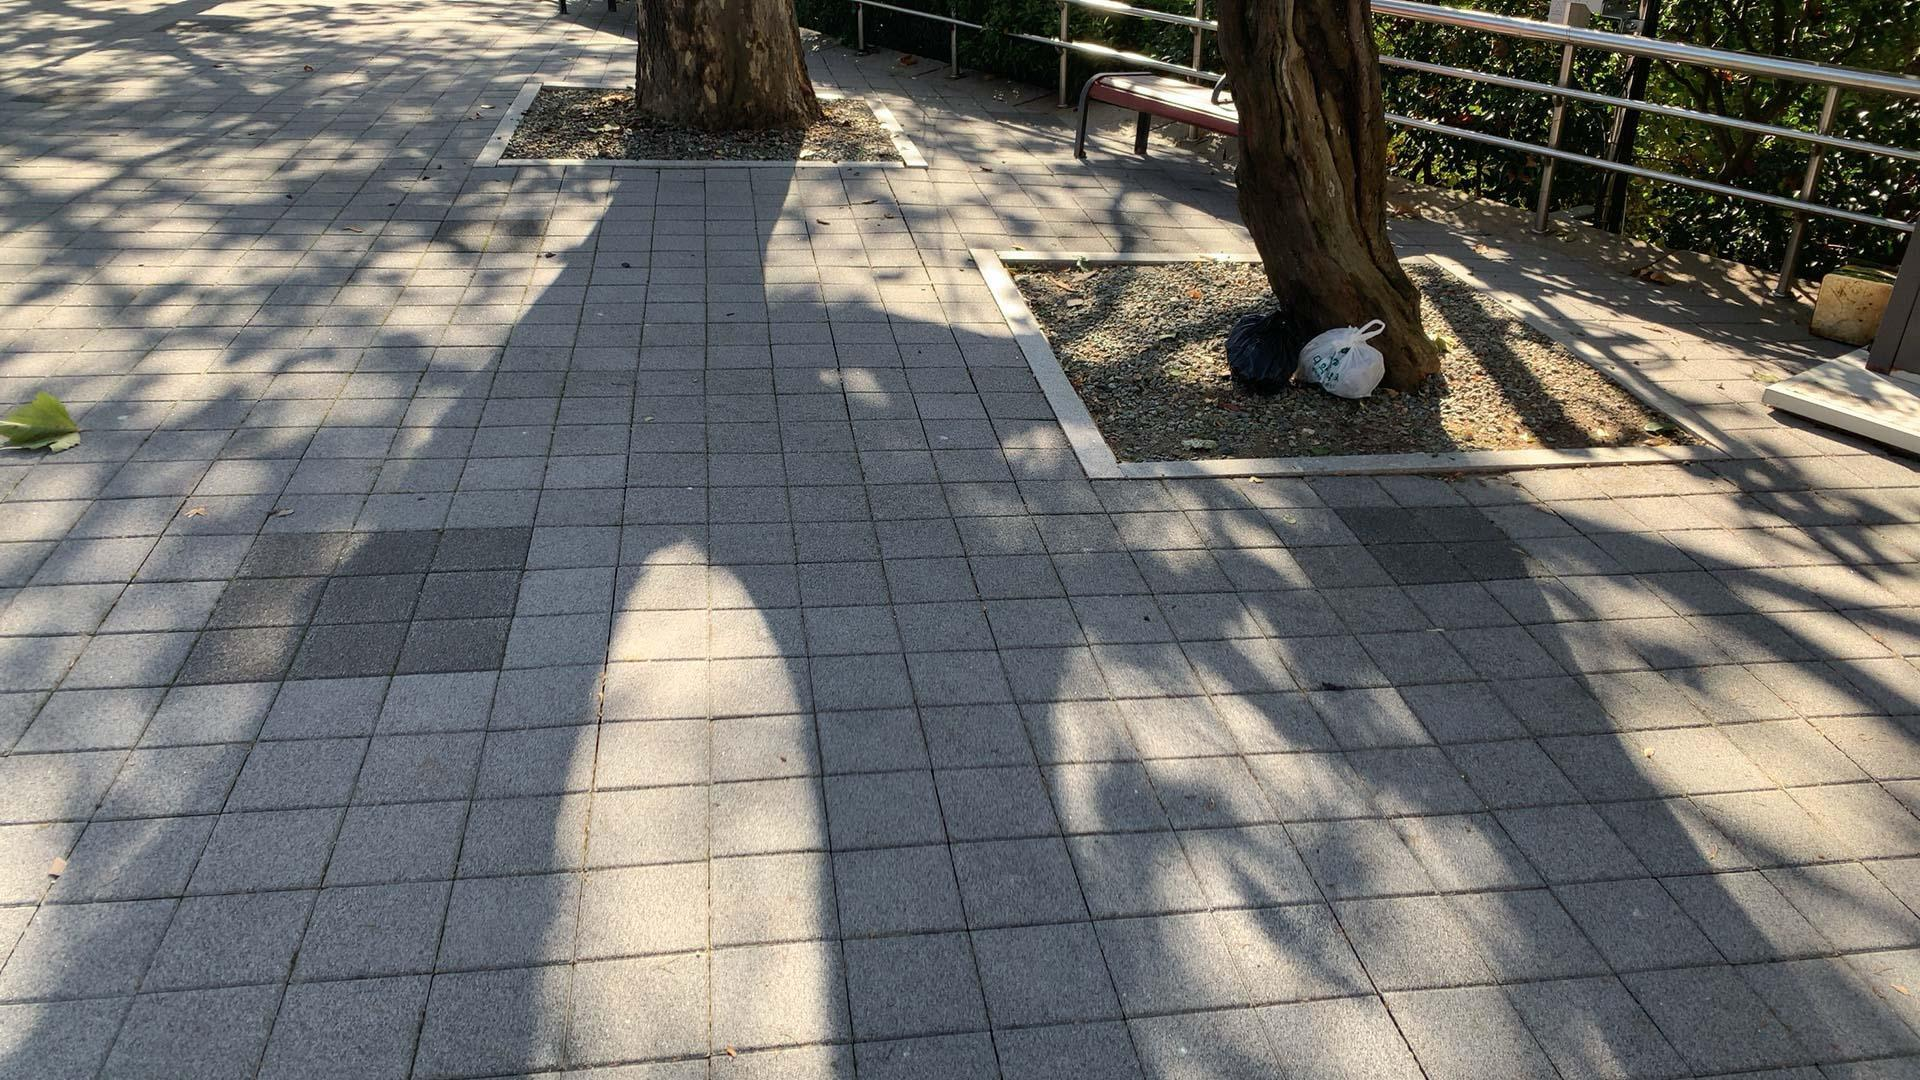black_bag: (1222, 310, 1299, 394)
white_bag: (1292, 310, 1390, 400)
